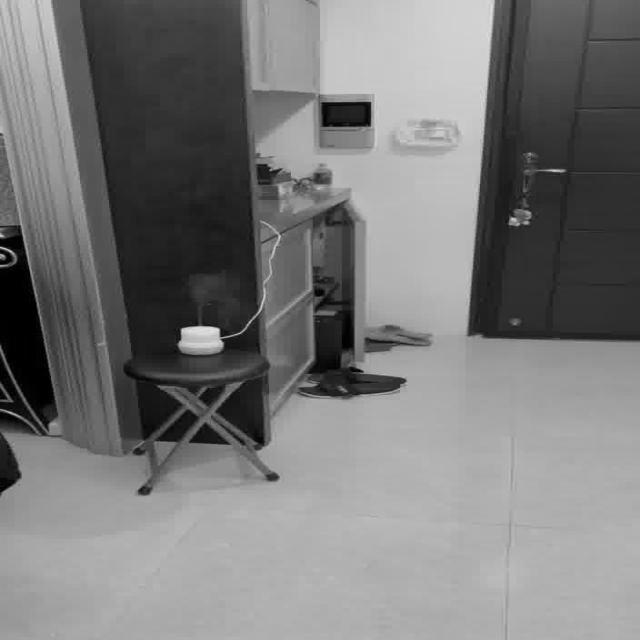fire: (179, 269, 244, 320)
